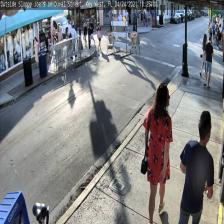person: (178, 110, 213, 224)
